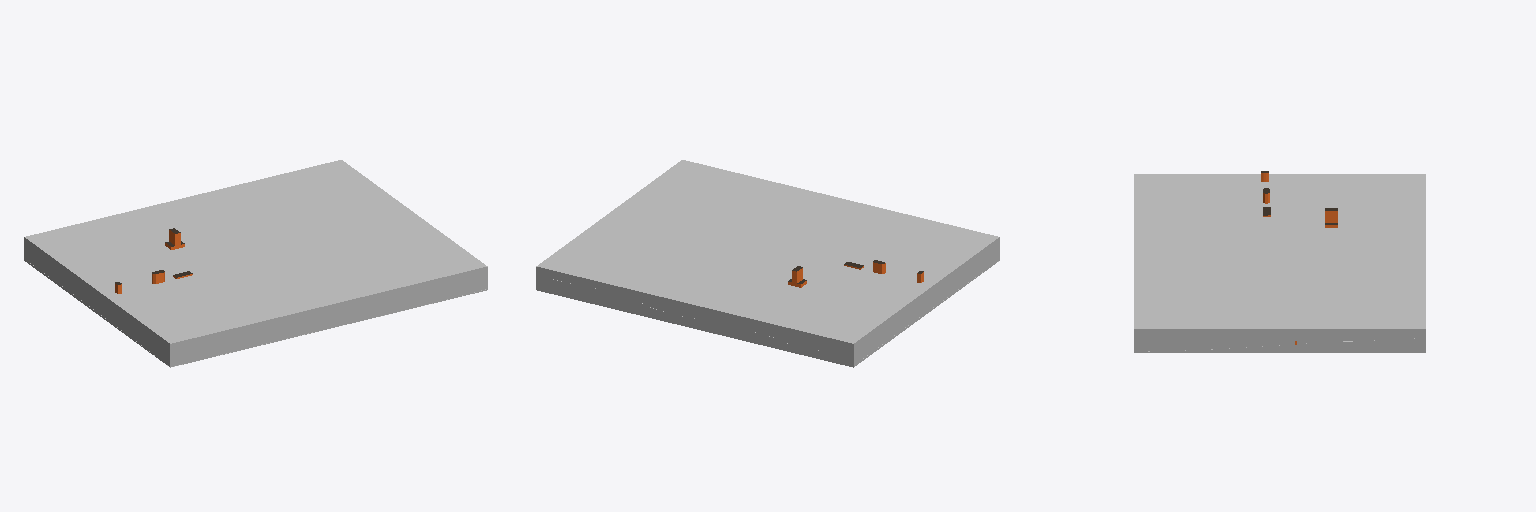
The model's file is Buildings.obj.
3 renders of one model, left to right at view 1: azimuth 30°, elevation 25°; view 2: azimuth 150°, elevation 25°; view 3: azimuth 270°, elevation 25°, orthographic.
Visible parts, largest first — view 1: Terrain_envelope, map_2.osm_buildings; view 2: Terrain_envelope, map_2.osm_buildings; view 3: Terrain_envelope, map_2.osm_buildings.
Boxes of the visible parts, box(x1,y1,x2,y2) form: Terrain_envelope: box(24, 160, 487, 367); map_2.osm_buildings: box(115, 228, 192, 293); Terrain_envelope: box(536, 160, 999, 367); map_2.osm_buildings: box(788, 260, 923, 287); Terrain_envelope: box(1134, 174, 1425, 352); map_2.osm_buildings: box(1261, 171, 1337, 344).
Size of the model in its own units: 1241 by 146 by 990.